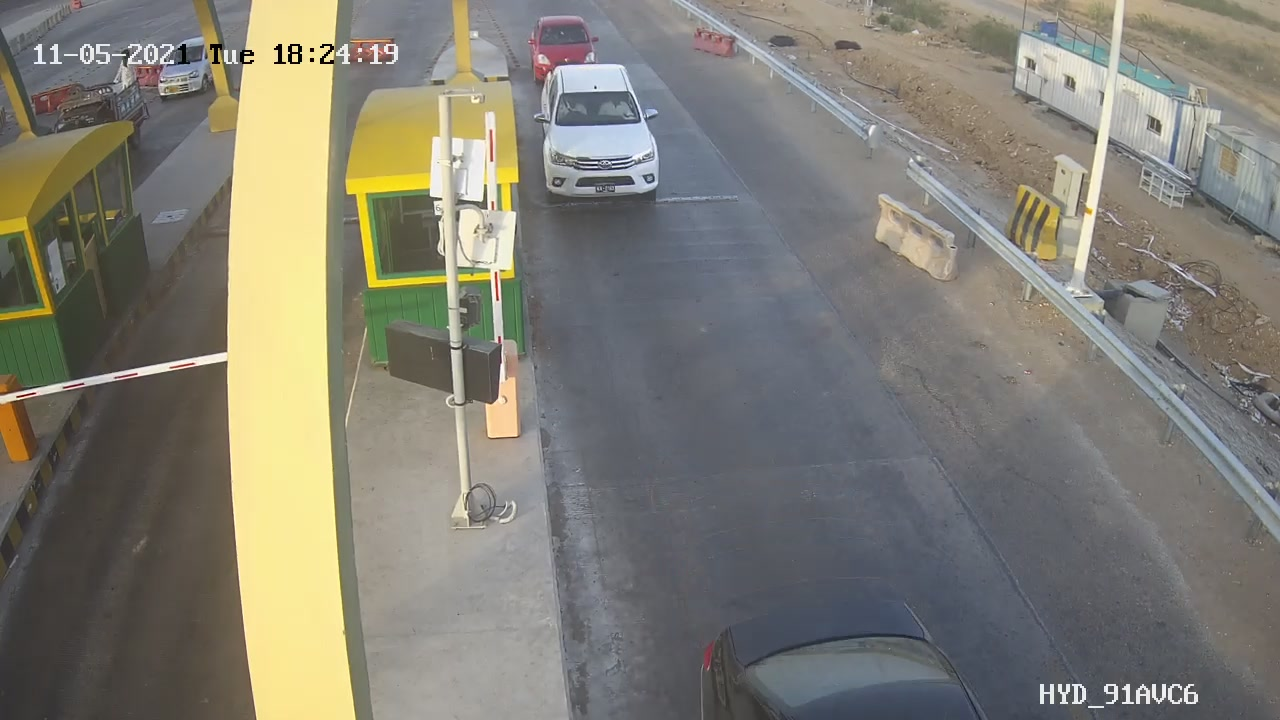F1: (531, 46, 687, 203)
